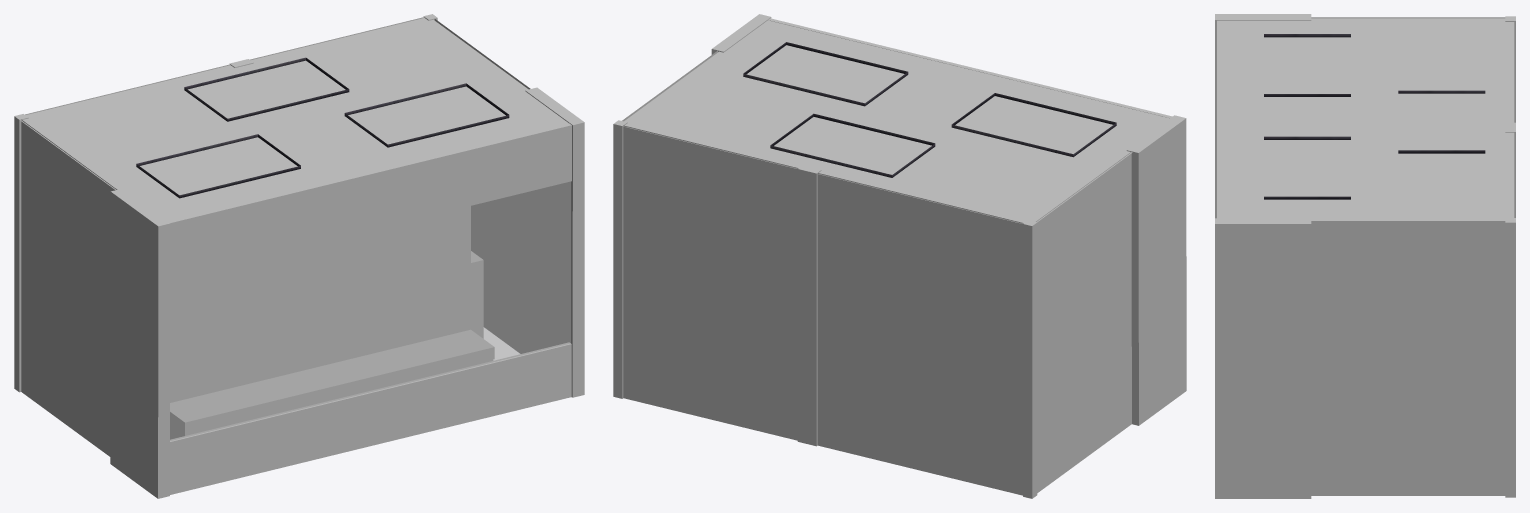
File: shop_22b.fbx
The picture shows the model from 3 angles, left to right: view 1: azimuth 30°, elevation 25°; view 2: azimuth 150°, elevation 25°; view 3: azimuth 270°, elevation 25°; orthographic projection.
Visible parts, largest first — view 1: shop_22b; view 2: shop_22b; view 3: shop_22b.
Part boxes in pixels (left/top/right/bottom): shop_22b: left=14, top=14, right=584, bottom=498; shop_22b: left=613, top=14, right=1186, bottom=498; shop_22b: left=1215, top=14, right=1515, bottom=498.
Size of the model in its own units: 5.25 by 3.23 by 3.18.
